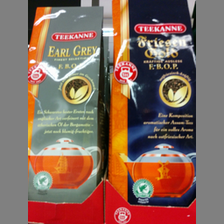tea: (111, 1, 195, 205), (28, 5, 105, 203)
